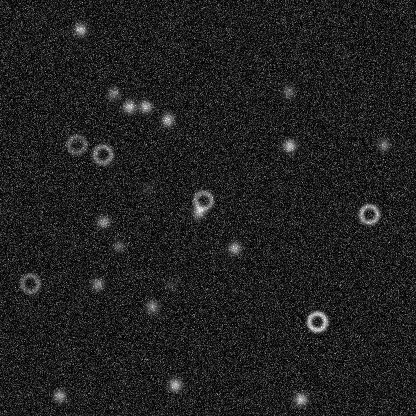Ring: (90, 142, 114, 166), (356, 202, 380, 226), (191, 188, 215, 212), (18, 271, 42, 295), (64, 132, 88, 156), (305, 309, 329, 333)
Spot: (110, 237, 126, 253), (51, 387, 67, 403), (137, 98, 153, 114), (72, 21, 88, 37), (144, 298, 160, 314), (89, 276, 105, 292), (292, 391, 308, 407), (280, 83, 296, 99), (281, 137, 297, 153), (95, 213, 111, 229), (159, 111, 175, 127), (226, 239, 242, 255), (105, 85, 121, 101), (121, 98, 137, 114), (167, 376, 183, 392), (162, 276, 178, 292), (190, 203, 206, 219), (140, 179, 156, 195), (375, 136, 391, 152)
